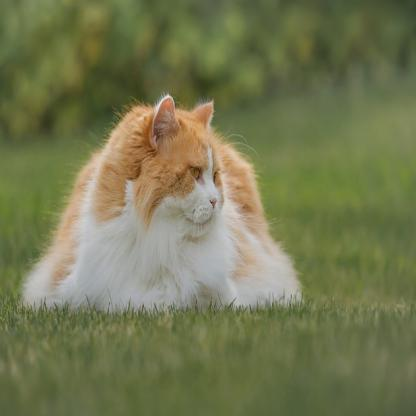cat: (21, 95, 307, 312)
